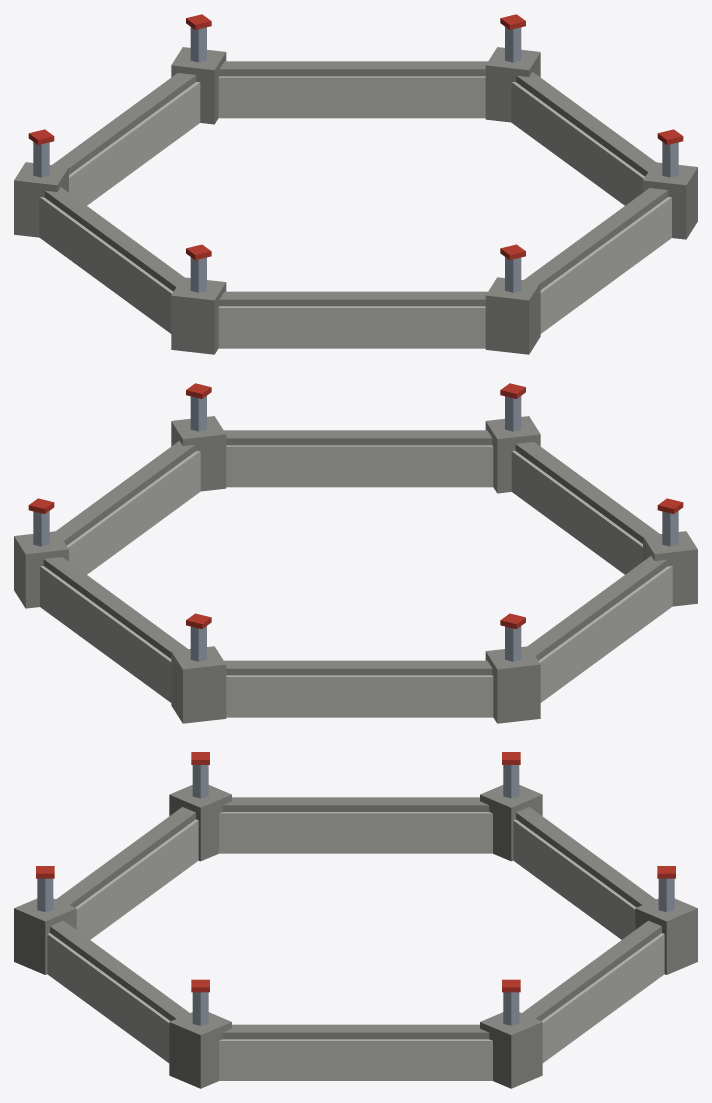
File: building_star_fort.fbx
The picture shows the model from 3 angles, top to bottom: view 1: azimuth 30°, elevation 25°; view 2: azimuth 150°, elevation 25°; view 3: azimuth 270°, elevation 25°; orthographic projection.
Visible parts, largest first — view 1: building_star_fort; view 2: building_star_fort; view 3: building_star_fort.
Boxes of the visible parts, box(x1,y1,x2,y2) form: building_star_fort: box(14, 14, 697, 354); building_star_fort: box(14, 383, 697, 723); building_star_fort: box(14, 752, 697, 1088).
Size of the model in its own units: 162 by 27.5 by 185.
